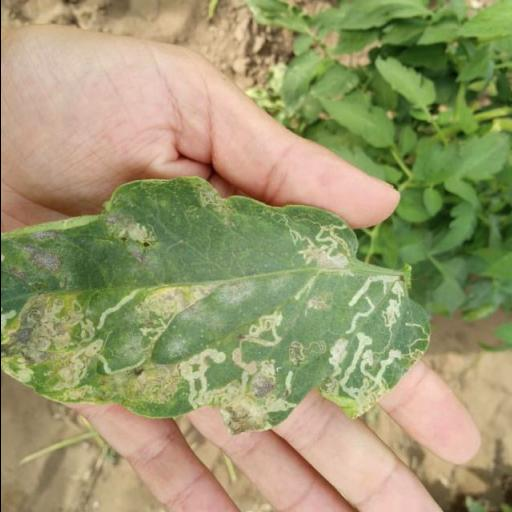disease_tomato: (0, 169, 430, 439)
